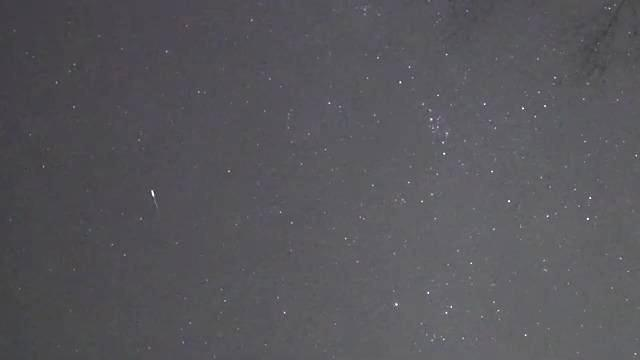meteorite: (137, 183, 168, 214)
